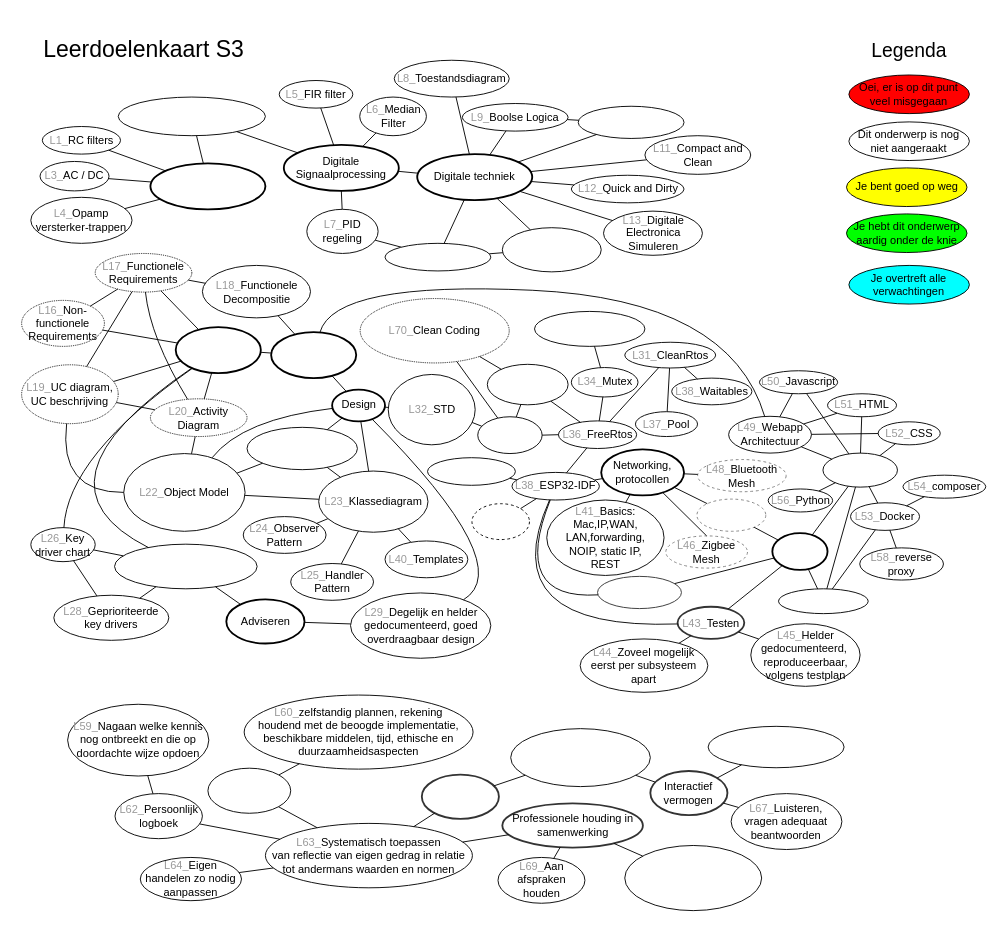
This 1002x926 diagram has some shape labels left out. The shapes that lost their labels are listed below. From the top down, each one's centre as x and y in pixels, then its label:
At pixel 191 116: "L2_ Signalen in het frequentiedomein".
At pixel 630 121: "L10_ Karnaugh diagram".
At pixel 207 186: "Analoge Signaalprocessing".
At pixel 437 256: "L15_ PLC progammeren".
At pixel 551 249: "L14_ Digitale Electronica Debuggen".
At pixel 589 328: "L30_ concurrency pc".
At pixel 217 350: "Requirements".
At pixel 313 355: "Software Architecture".
At pixel 527 384: "L71_ IR NEC protocol".
At pixel 301 448: "L21_ Taakstructu- rering".
At pixel 509 435: "L33_ STD naar code".
At pixel 471 471: "L35_ Debugging".
At pixel 859 469: "L55_ Flask".
At pixel 500 521: "L39_ Mesh update".
At pixel 731 514: "L47_ Wifi Mesh".
At pixel 185 566: "L27_ Helder onderbouwd advies requirements".
At pixel 799 551: "Linux Server".
At pixel 639 592: "L42_ Debuggen".
At pixel 823 601: "L57_ MongoDB".
At pixel 580 757: "L65_ Initiatief nemen voor gesprekken om relevante input te geven".
At pixel 775 746: "L66_ correct, doelgericht Nederlands".
At pixel 249 790: "L61_ Scrum logboek".
At pixel 459 796: "Lerend vermogen".
At pixel 693 878: "L68_ Respectvolle toon naar medestudenten en docenten".
